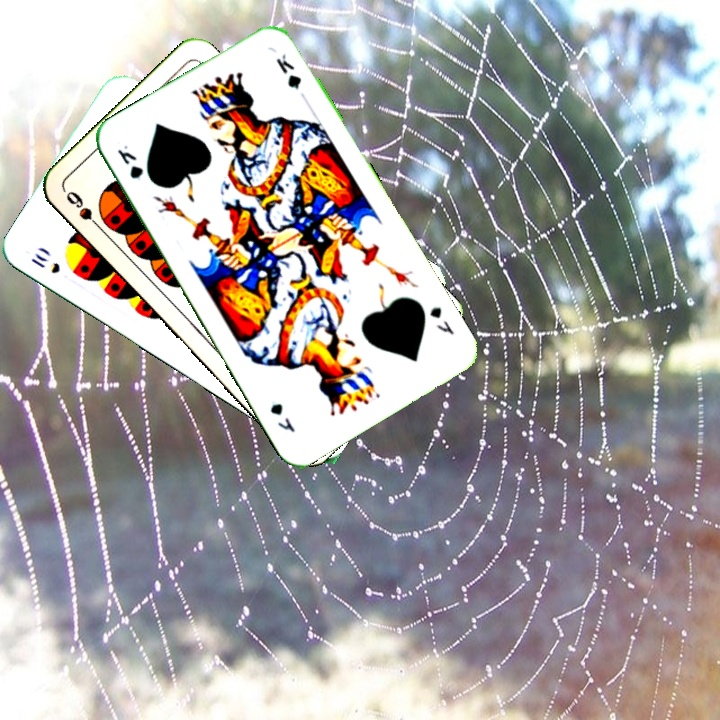GK: (113, 141, 146, 184), (425, 303, 457, 338)
S10: (27, 249, 63, 276)
S9: (61, 187, 107, 235)
